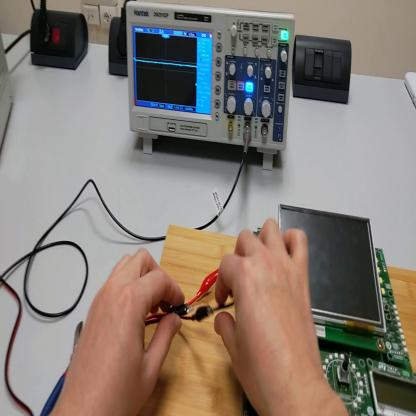hand: (214, 222, 327, 405), (66, 246, 184, 416)
low voltage board: (210, 203, 416, 416)
oscilloscope: (126, 2, 296, 173)
pliers: (40, 322, 85, 415)
power supply: (2, 33, 15, 163)
socket: (32, 6, 89, 72), (110, 16, 128, 77)
working area: (138, 225, 416, 414)
